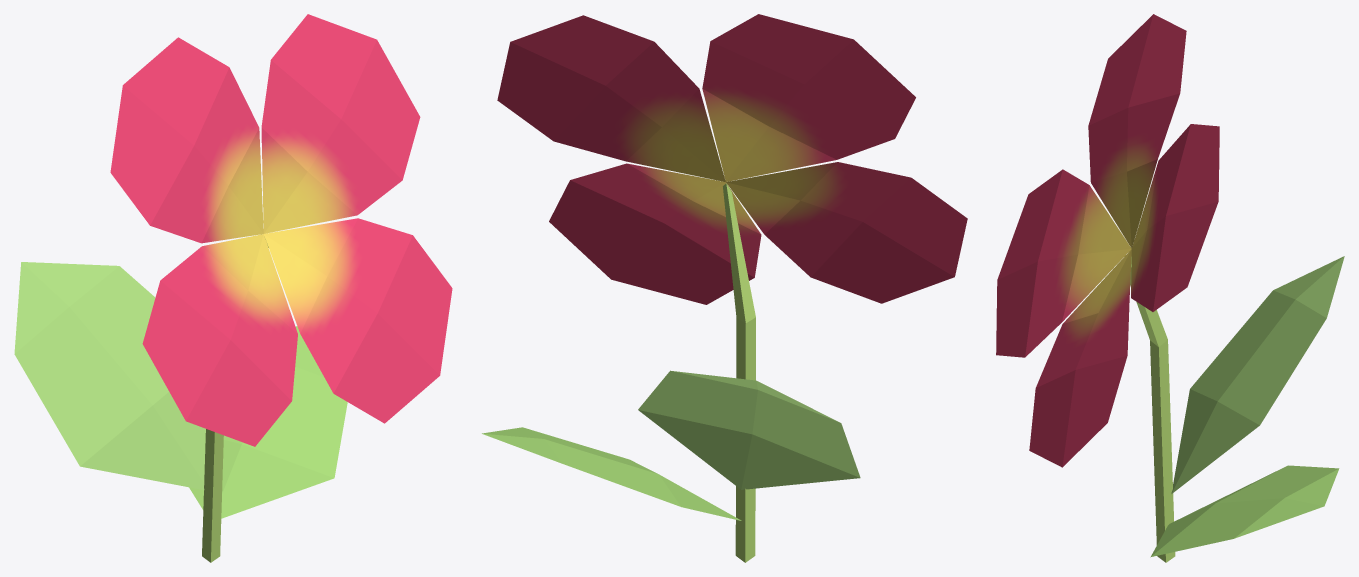
Rendered from Flower_c_OneS_12.fbx.
3 views of the same model, side by side, from view 1: azimuth 30°, elevation 25°; view 2: azimuth 150°, elevation 25°; view 3: azimuth 270°, elevation 25° (orthographic). The views are drawn at different scales.
Visible parts, largest first — view 1: Flower_c_OneS_12; view 2: Flower_c_OneS_12; view 3: Flower_c_OneS_12.
Boxes of the visible parts, x1,y1,x2,y2 form: Flower_c_OneS_12: [14, 14, 452, 562]; Flower_c_OneS_12: [482, 14, 967, 562]; Flower_c_OneS_12: [996, 14, 1344, 562].
Size of the model in its own units: 0.2782 by 0.3803 by 0.2326.
